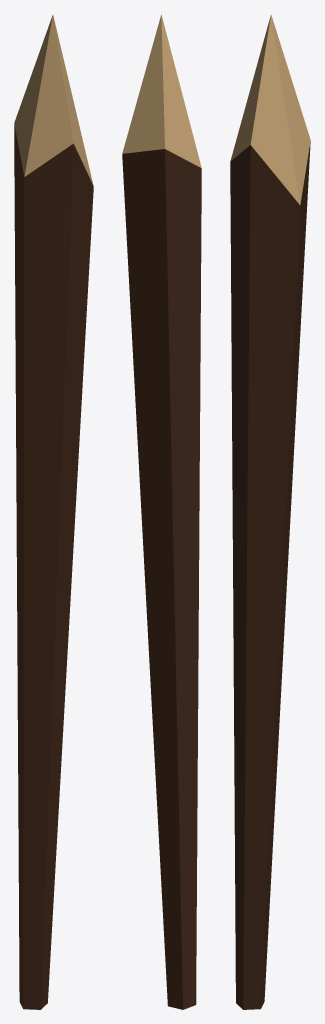
File: WoodenSpike_5.fbx
3 renders of one model, left to right at view 1: azimuth 30°, elevation 25°; view 2: azimuth 150°, elevation 25°; view 3: azimuth 330°, elevation 25°, orthographic.
Parts seen in each view (by area): view 1: WoodenSpike_5; view 2: WoodenSpike_5; view 3: WoodenSpike_5.
Part boxes in pixels (box(x1,y1,x2,y2)): WoodenSpike_5: box(14, 15, 93, 1009); WoodenSpike_5: box(122, 14, 201, 1009); WoodenSpike_5: box(230, 14, 310, 1009).
Size of the model in its own units: 9.98 by 135 by 9.49.
